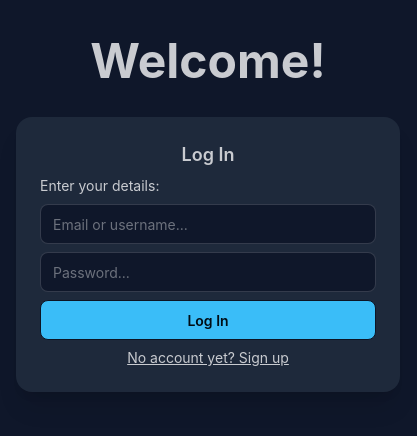
Test: AuthPage › shows the friendly message of a failed login
Type "viewer@cineweb.com" into the field with placeholder "Email or username..." at (208, 224), box [40, 204, 376, 244]
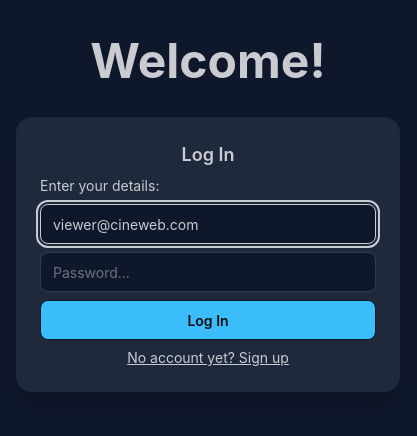
Type "wrong-password" into the password field with placeholder "Password..." at (208, 272), box [40, 252, 376, 292]
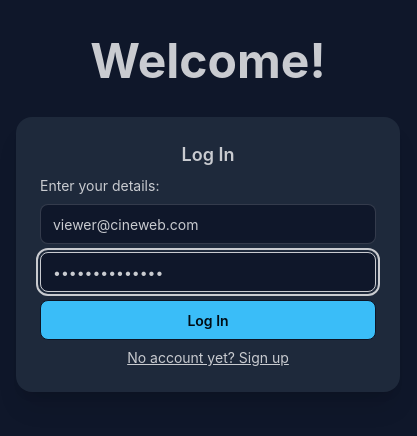
Click the button "Log In" at (208, 320), box [40, 300, 376, 340]
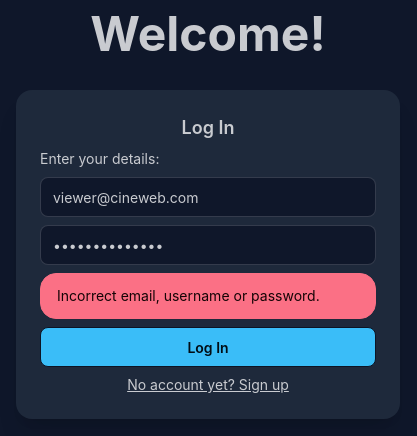
Expected: the button "Log In" is enabled, [40, 327, 376, 367]
Expected: the message reads "Incorrect email, username or password.", [57, 287, 320, 304]
